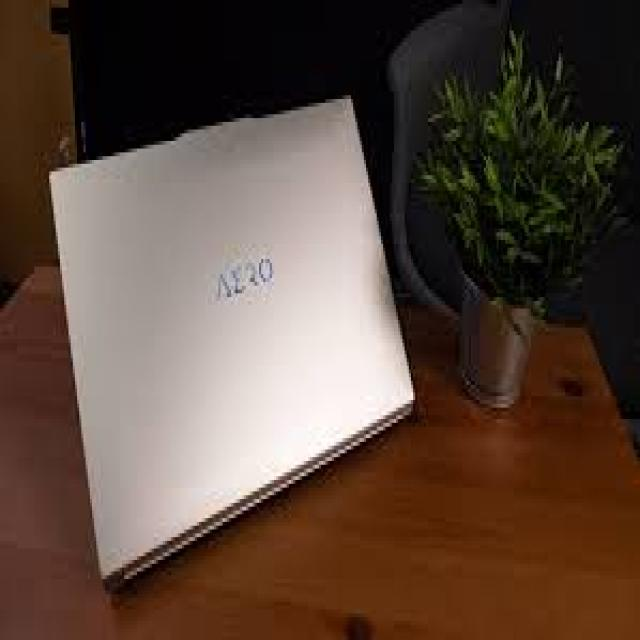laptop: (47, 92, 415, 590)
